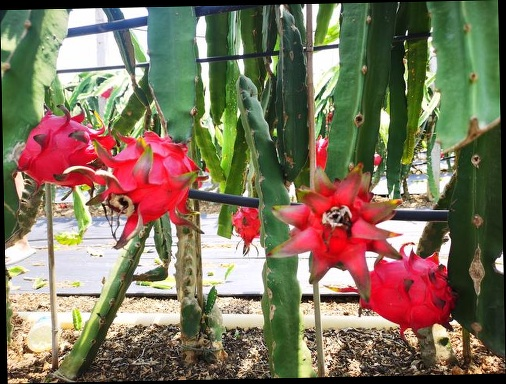pitaya: (272, 171, 397, 276), (354, 253, 454, 329), (109, 130, 194, 216), (19, 110, 117, 184), (231, 205, 262, 245), (306, 132, 337, 169)
